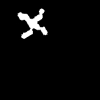single_crochet: (18, 9, 46, 37)
